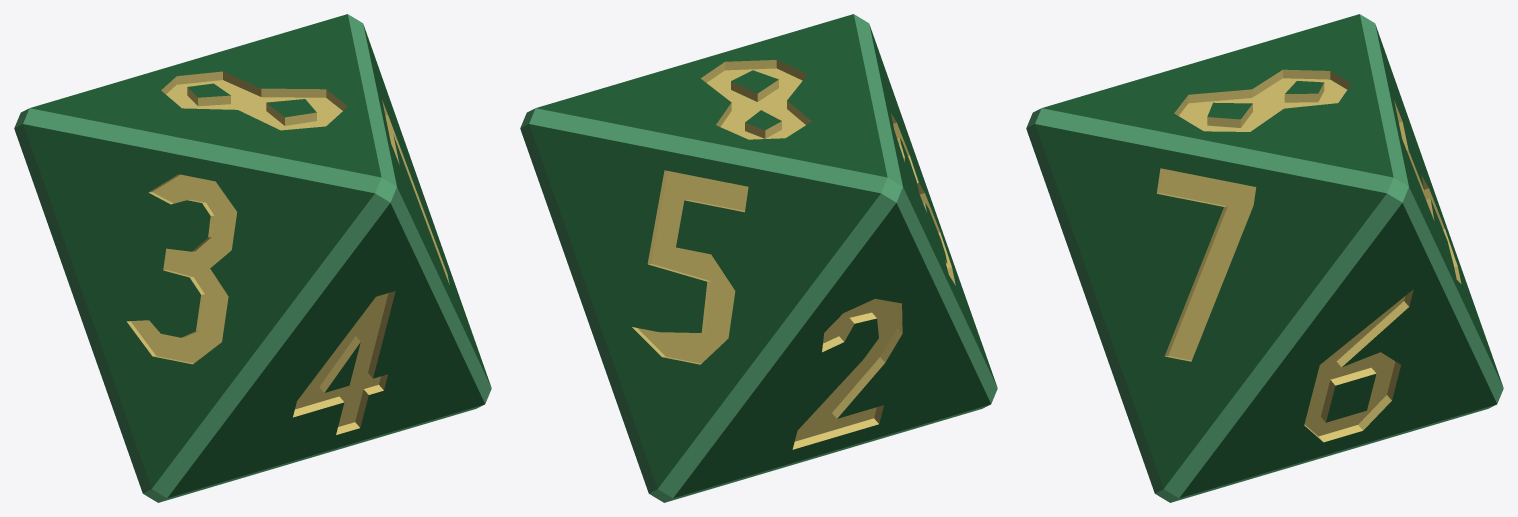
The model's file is d8-eight-sided-die-1901f7.glb.
3 renders of one model, left to right at view 1: azimuth 30°, elevation 25°; view 2: azimuth 150°, elevation 25°; view 3: azimuth 270°, elevation 25°, orthographic.
Visible parts, largest first — view 1: resin, numerals; view 2: resin, numerals; view 3: resin, numerals.
Boxes of the visible parts, x1,y1,x2,y2 form: resin: (14, 14, 491, 502); numerals: (126, 71, 449, 434); resin: (520, 14, 997, 502); numerals: (632, 60, 955, 449); resin: (1026, 14, 1503, 502); numerals: (1156, 69, 1461, 442).
Size of the model in its own units: 0.0138 by 0.0111 by 0.0151.
